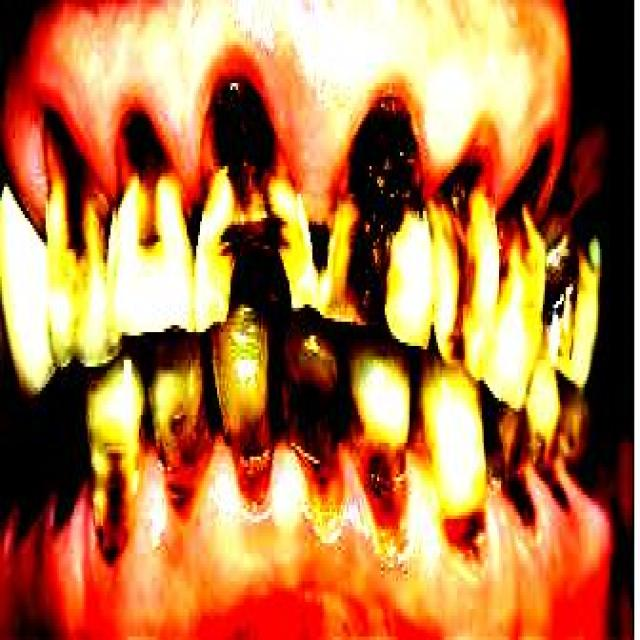caries: (193, 73, 315, 331), (320, 76, 432, 350), (37, 96, 115, 369), (111, 98, 189, 287), (348, 350, 416, 548), (278, 333, 347, 528), (435, 147, 494, 374), (146, 332, 212, 529), (87, 356, 144, 574), (213, 333, 274, 523), (492, 114, 550, 310), (436, 457, 495, 594), (536, 384, 586, 522), (492, 399, 537, 544), (545, 234, 581, 360)
